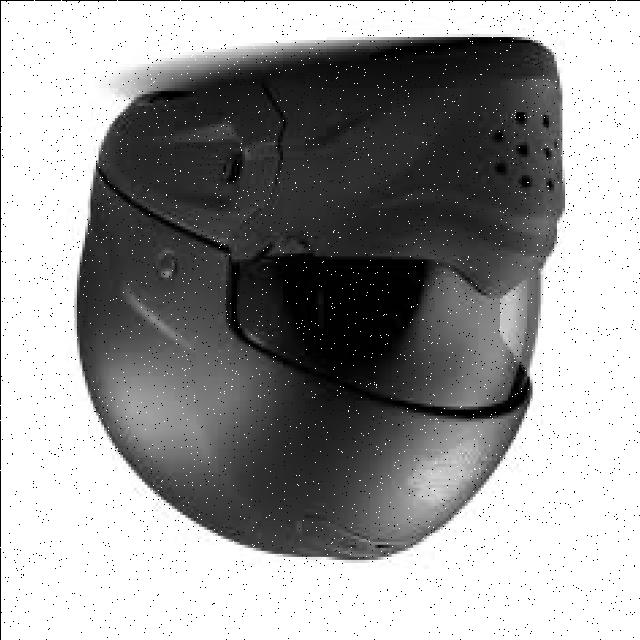Helmet: (68, 22, 579, 579)
